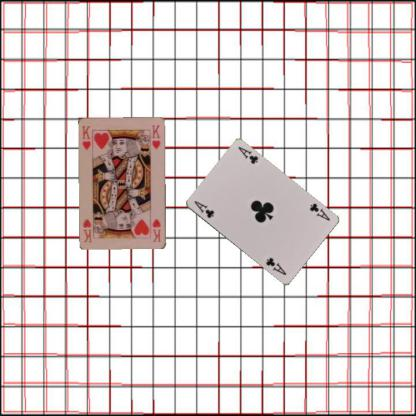Ac: (191, 198, 216, 220), (307, 200, 331, 222)
Kh: (150, 216, 162, 243), (80, 124, 92, 151)
